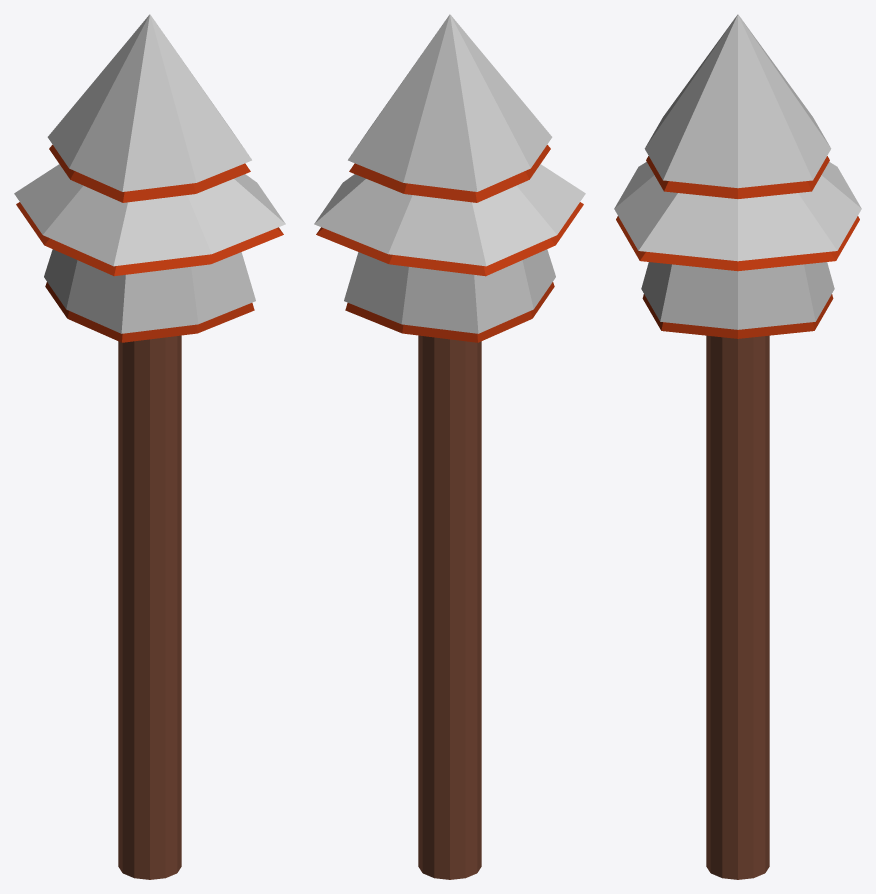
Rendered from Tree_20_winter_red_vc.fbx.
The picture shows the model from 3 angles, left to right: view 1: azimuth 30°, elevation 25°; view 2: azimuth 150°, elevation 25°; view 3: azimuth 270°, elevation 25°; orthographic projection.
Visible parts, largest first — view 1: Tree_20_winter_red_vc; view 2: Tree_20_winter_red_vc; view 3: Tree_20_winter_red_vc.
Boxes of the visible parts, x1,y1,x2,y2 form: Tree_20_winter_red_vc: (14,14,285,879); Tree_20_winter_red_vc: (314,14,585,879); Tree_20_winter_red_vc: (614,14,861,879).
Size of the model in its own units: 86.74 by 329 by 86.74.
